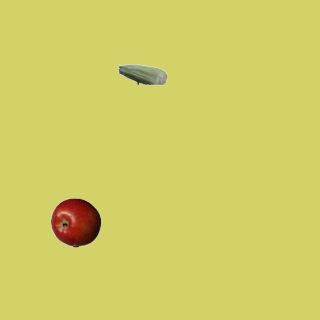Apple Braeburn: (50, 197, 100, 247)
Corn Husk: (117, 49, 167, 99)
